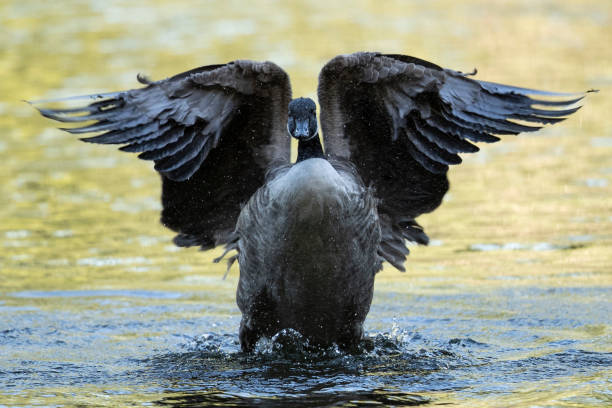goose: (156, 48, 499, 371)
